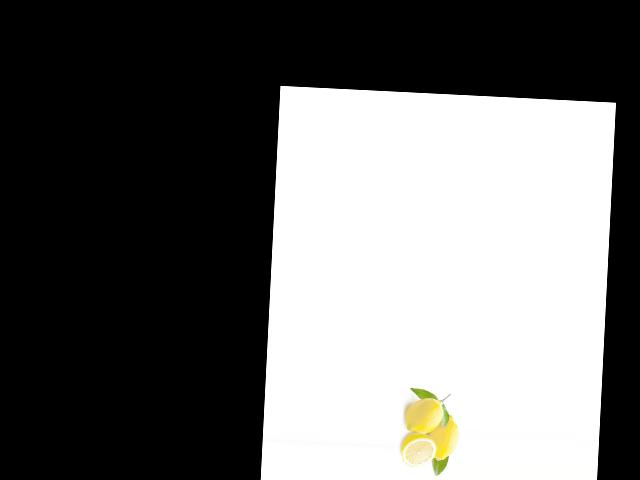lemon: (424, 411, 462, 459)
